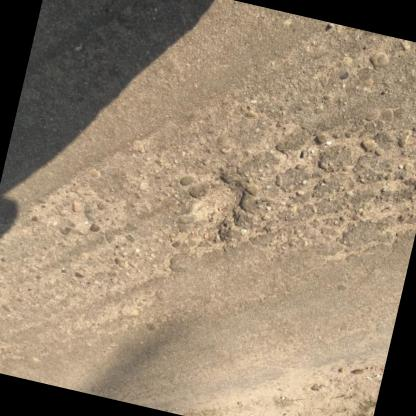pothole: (188, 171, 252, 242)
